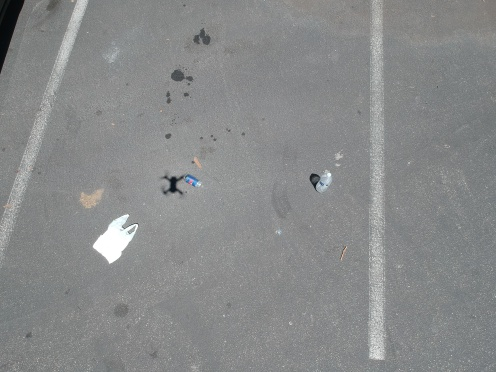bottle: (312, 168, 334, 198)
can: (178, 171, 206, 191)
plastic bag: (90, 208, 143, 268)
